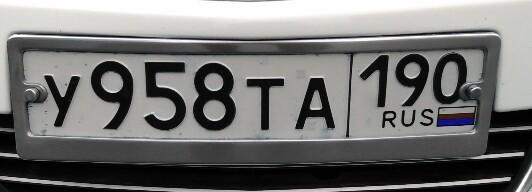license-plateSW: (14, 49, 494, 144)
